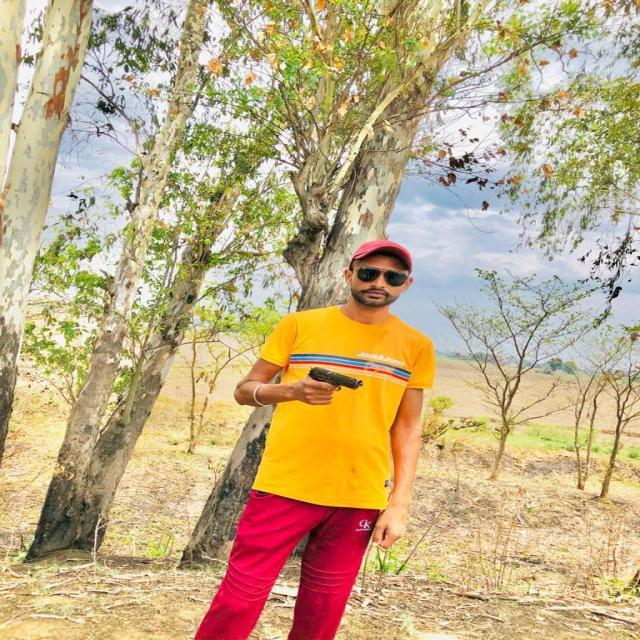weapon: (300, 364, 368, 405)
